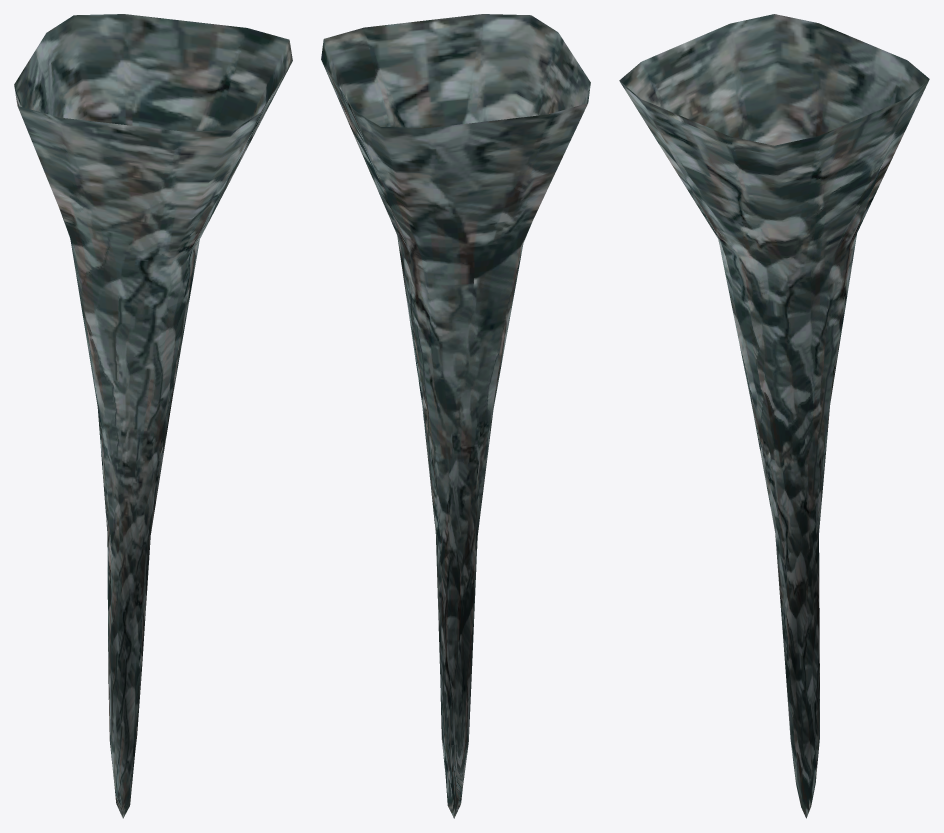
Rendered from INST_SM_STALAGA.fbx.
3 renders of one model, left to right at view 1: azimuth 30°, elevation 25°; view 2: azimuth 150°, elevation 25°; view 3: azimuth 270°, elevation 25°, orthographic. The views are drawn at different scales.
Parts seen in each view (by area): view 1: INST_SM_STALAGA; view 2: INST_SM_STALAGA; view 3: INST_SM_STALAGA.
Boxes of the visible parts, x1,y1,x2,y2 form: INST_SM_STALAGA: [14, 14, 292, 818]; INST_SM_STALAGA: [321, 14, 590, 818]; INST_SM_STALAGA: [619, 14, 929, 818].
Bounding box in the file's own units: 65322 × 173045 × 65273.
1 material, 1 textured.
